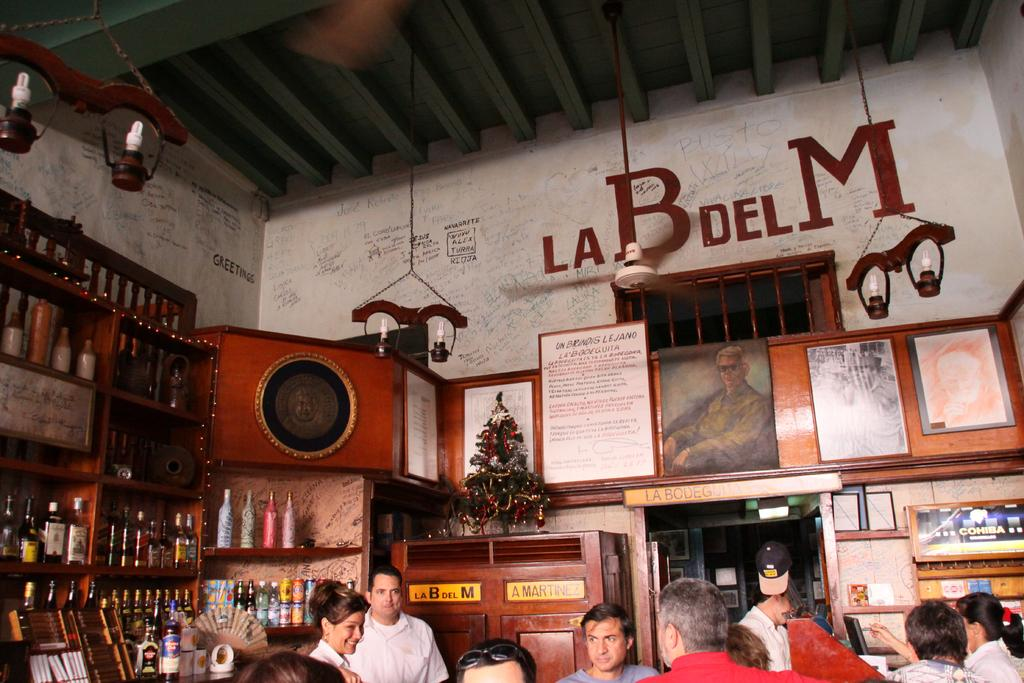Sem Máscara: (581, 614, 627, 669), (462, 658, 523, 680), (328, 613, 361, 652), (371, 571, 399, 614)
